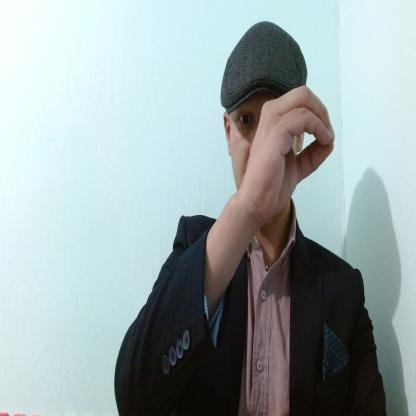O: (244, 84, 337, 217)
